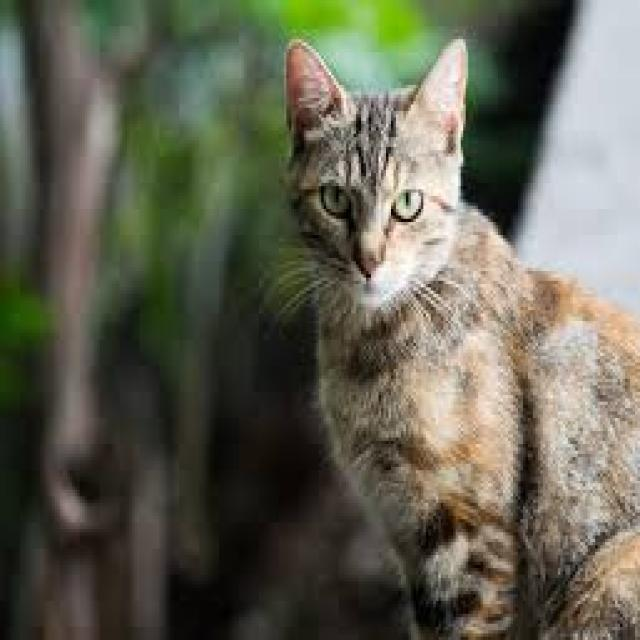cat: (294, 85, 485, 395)
